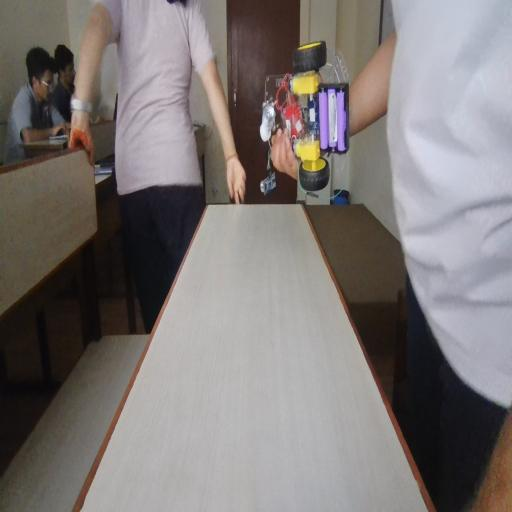car: (270, 69, 331, 205)
